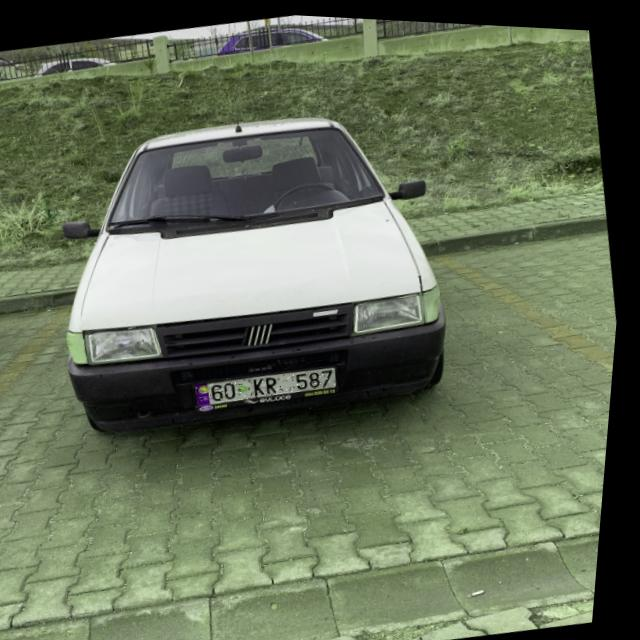license_plate: (199, 358, 345, 408)
